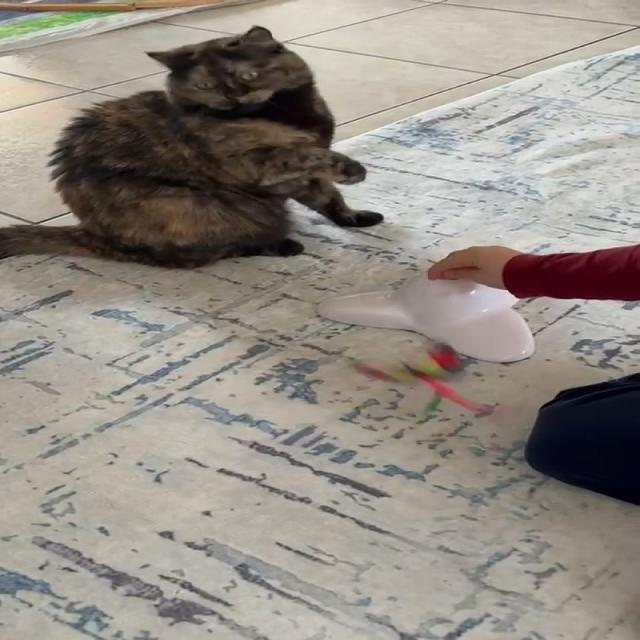authorized: (0, 24, 384, 270)
